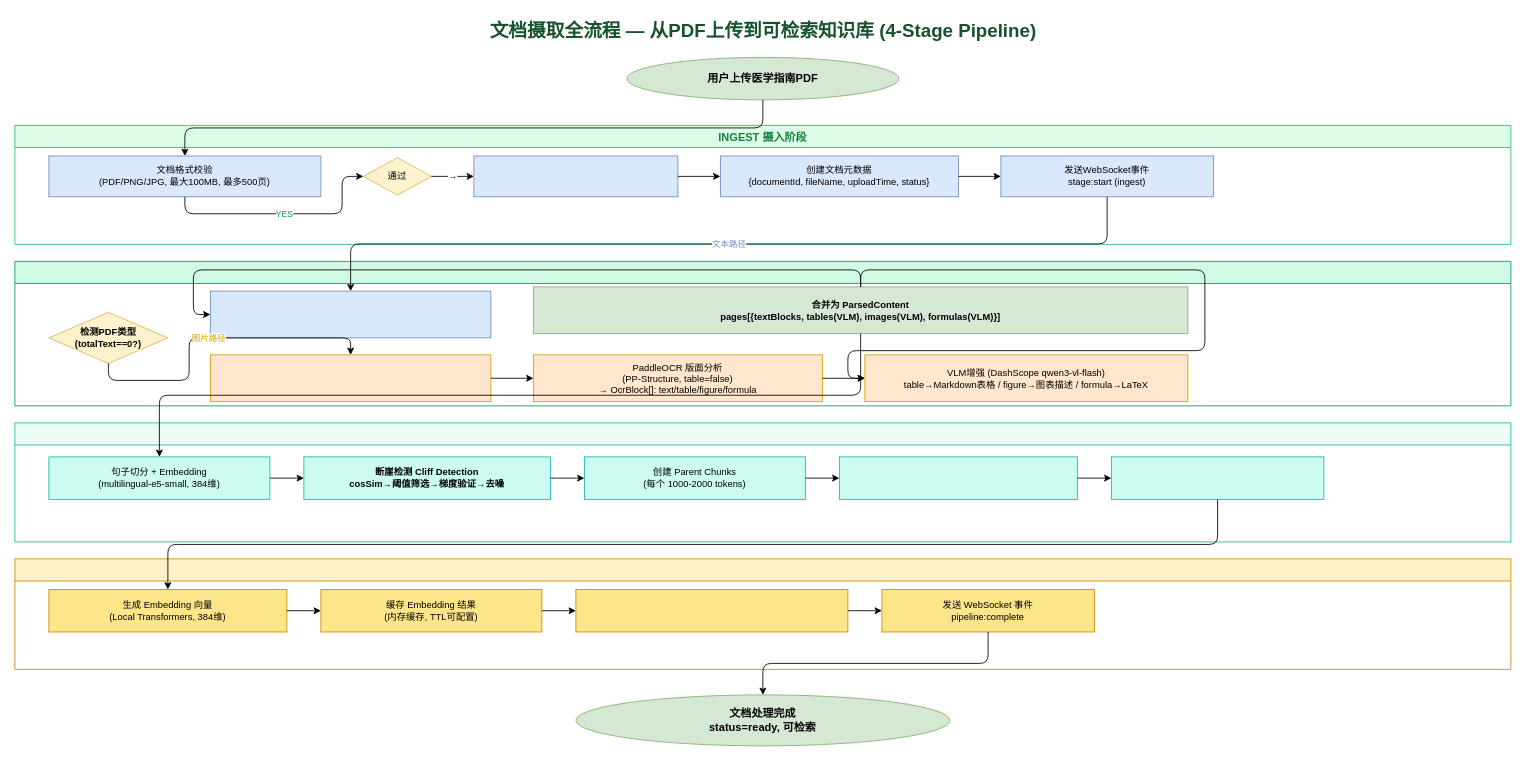
Some shapes in this 1526 by 761 pixel diagram are drawn without their labels. Here are the shapes that lost their labels. From the top down, the box of each, then its label:
(473, 155, 678, 197): 加入处理队列 (内存队列, FIFO顺序)
(210, 290, 491, 338): [文本PDF] PdfParser 提取原生文本层 + 内嵌图片 逐页提取textBlocks (保留坐标)
(14, 261, 1511, 406): PARSE 解析阶段
(210, 354, 491, 402): [图片PDF] PdfToImageConverter pdfjs-dist, scale=2 (144dpi) → PNG Buffer 数组
(14, 422, 1511, 542): CHUNK 语义分块阶段
(839, 456, 1077, 499): 创建 Child Chunks (每个Parent 4-6个, 200-500 tokens)
(1111, 456, 1324, 499): 质量过滤 Quality Filter 完整性/连贯性/信息密度
(575, 589, 848, 632): 写入存储 HierarchicalStore + ImageStore + DocumentStore (status=ready)
(14, 558, 1511, 669): EMBED 嵌入阶段
